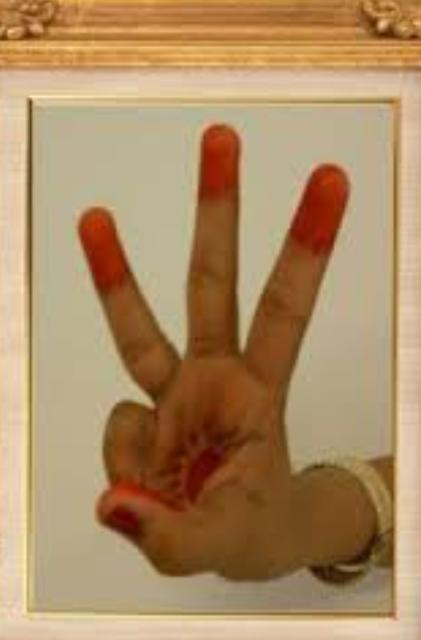trishool: (76, 122, 393, 585)
